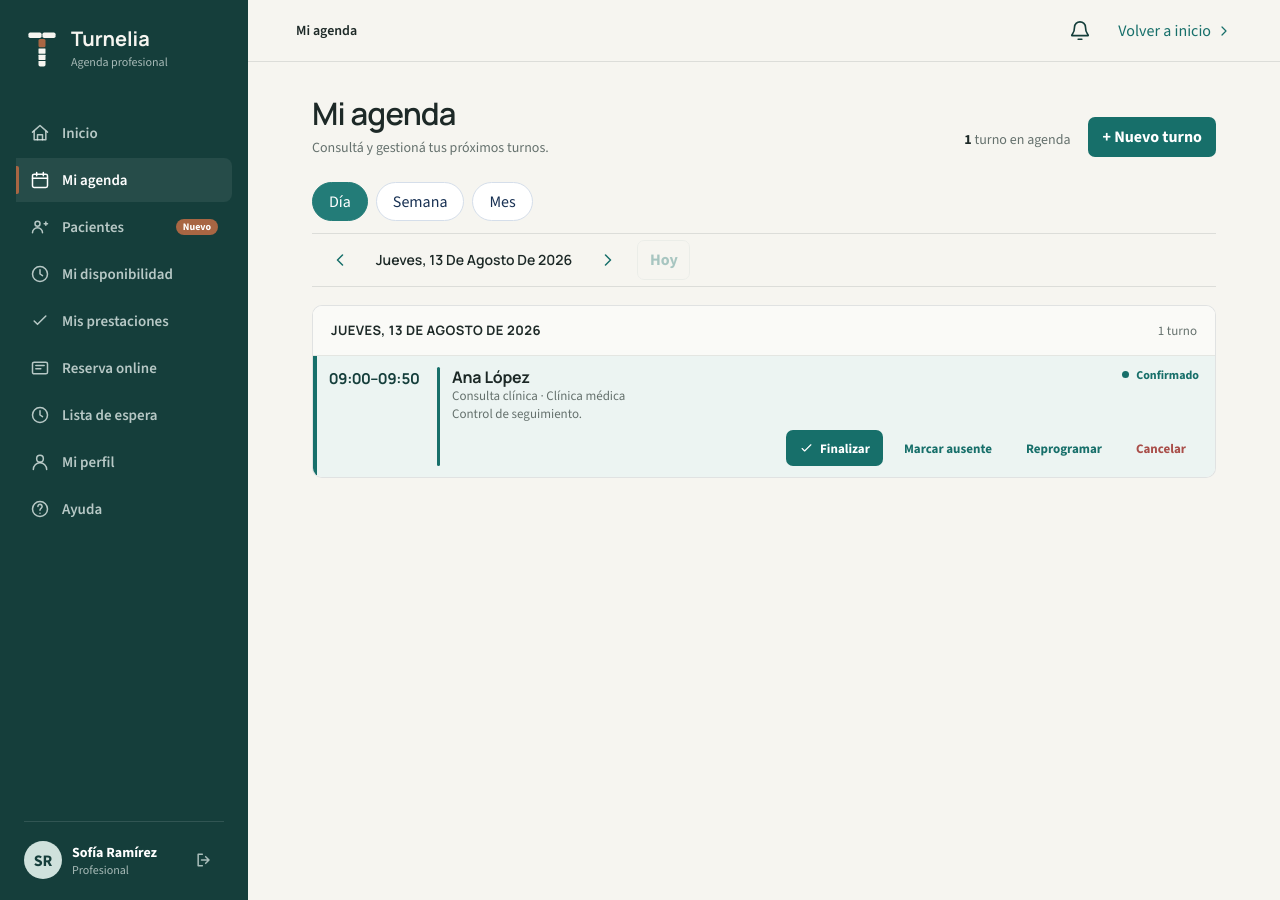
Test: agenda propia profesional Signature › confirma y cancela un turno profesional sin recargar la agenda
This screenshot has width=1280, height=900.
Click the button "Cancelar". click: coordinates (1161, 448)
box: left=1123, top=430, right=1199, bottom=466
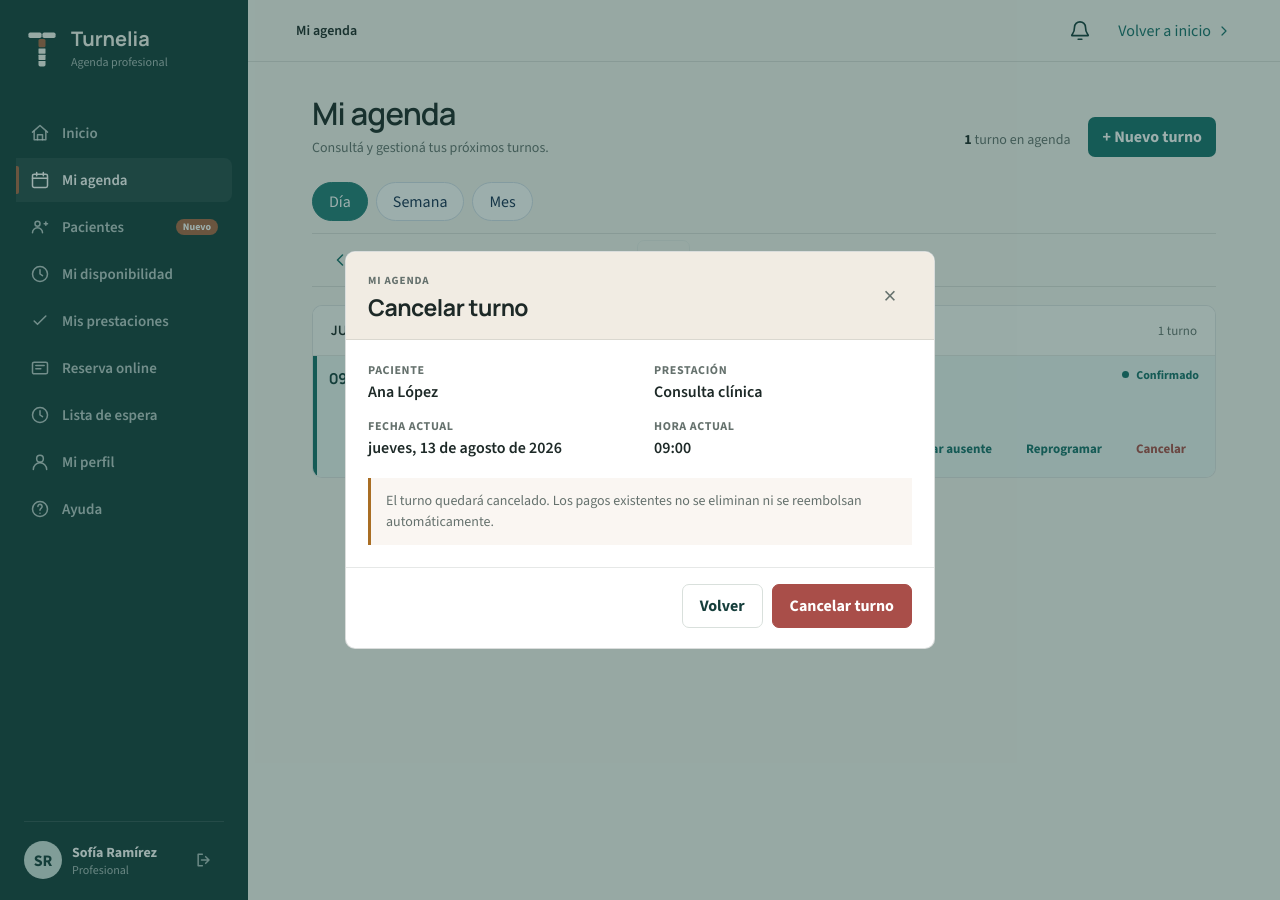
Now the text "Ana López" is shown, box left=368, top=381, right=438, bottom=402
Now the text "Consulta clínica" is shown, box left=654, top=381, right=762, bottom=402
Click the button "Cancelar turno". click: coordinates (842, 606)
box: left=772, top=584, right=912, bottom=628
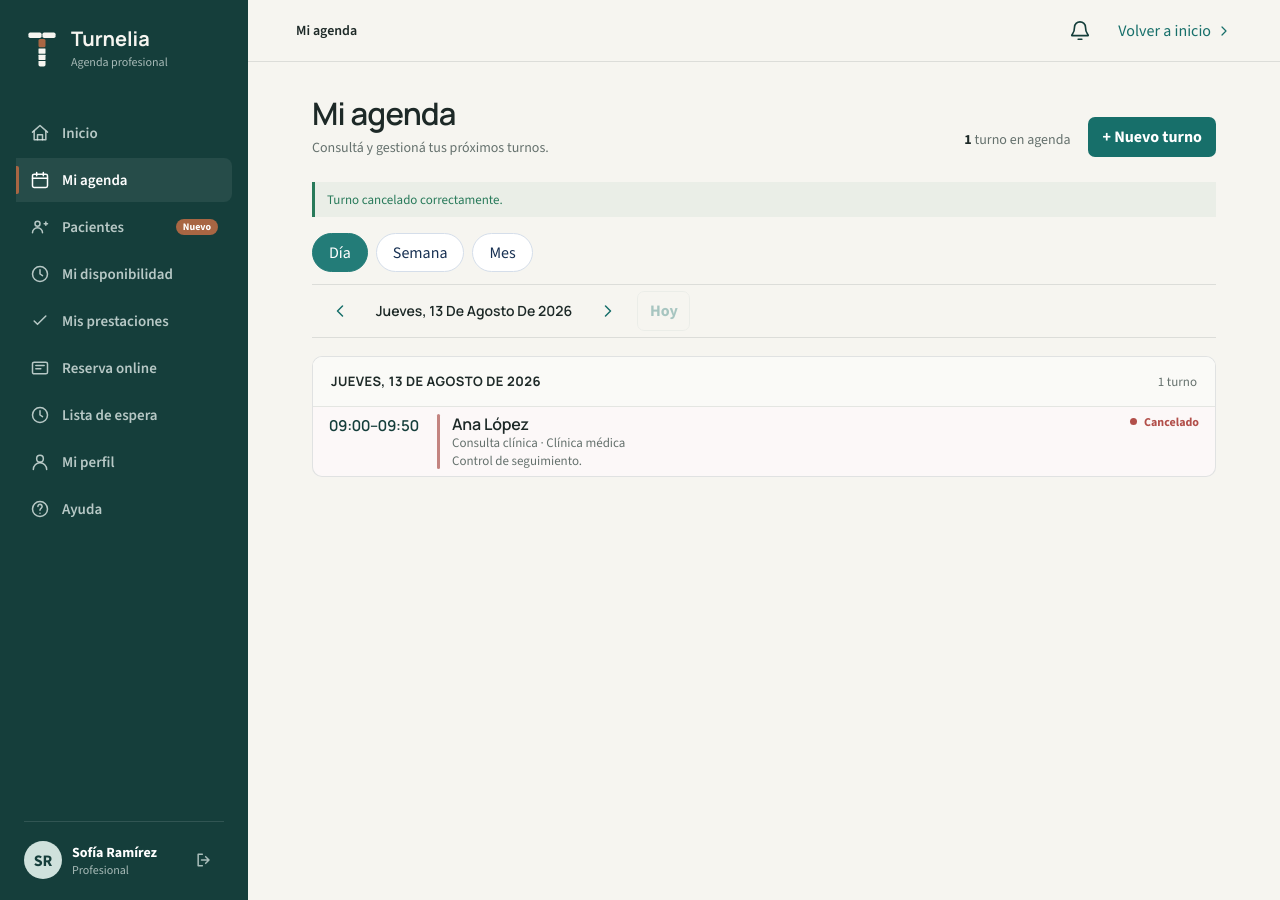
Now the element named "Ana López, Cancelado" is shown, box left=313, top=407, right=1215, bottom=476
